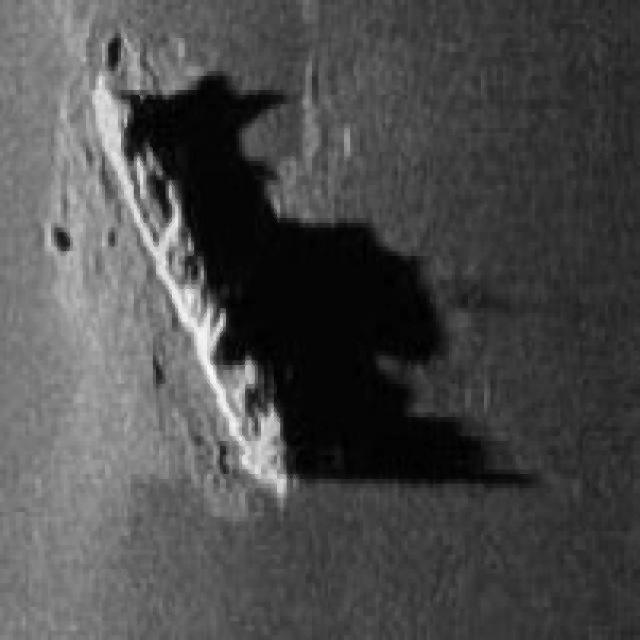Ship: (79, 24, 309, 516)
